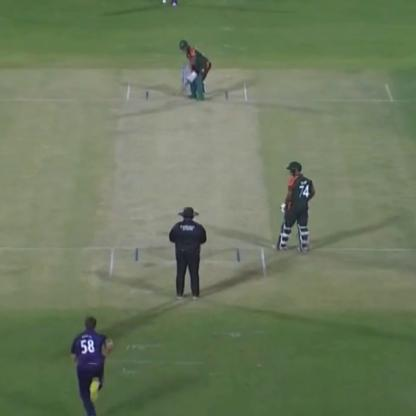bat: (178, 67, 200, 97)
pitch: (107, 83, 278, 290)
